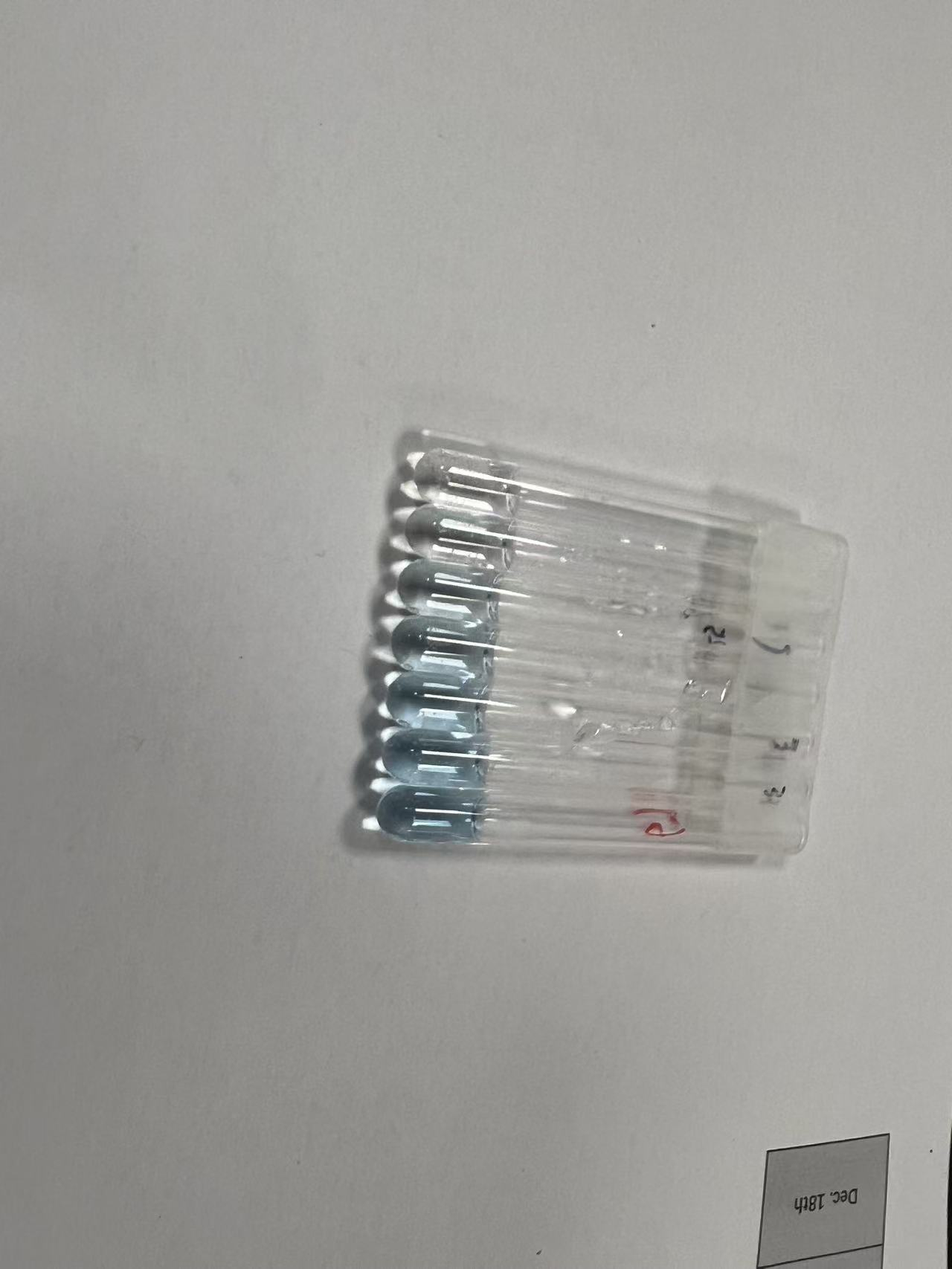drop: (415, 447, 519, 519), (377, 732, 497, 792), (378, 784, 489, 848), (387, 617, 494, 683), (410, 506, 508, 572), (385, 677, 489, 738), (399, 559, 498, 623)
